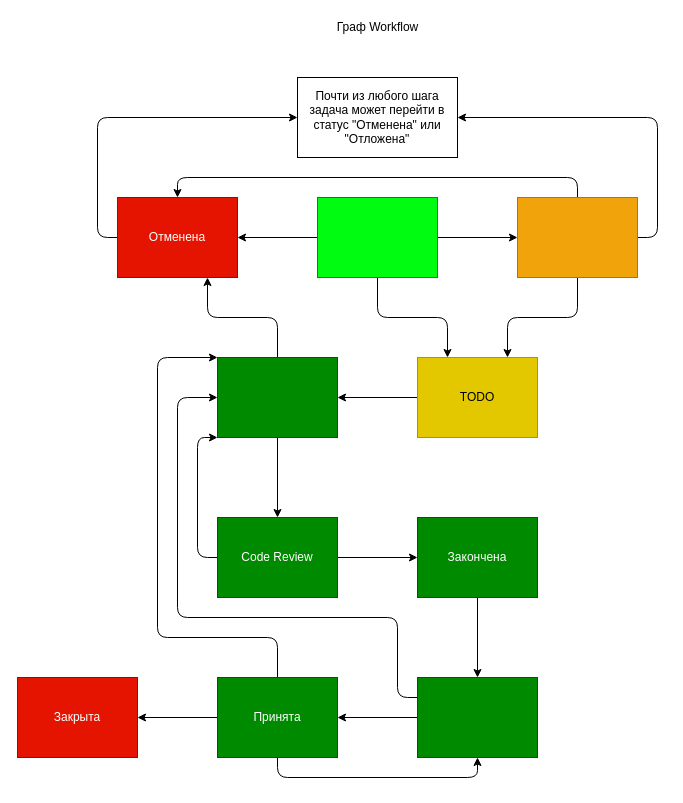
The diagram is 683 pixels wide and 803 high, and some of its shapes have lost their labels. Each missing label, with the centre of its shape:
В работе: (277,397)
Отложена: (577,237)
Создана: (377,237)
Тестируется: (477,717)
